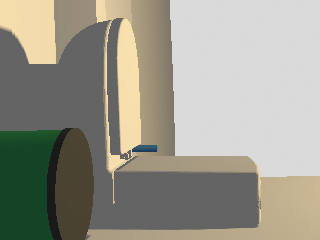lid_1: (107, 18, 140, 159)
